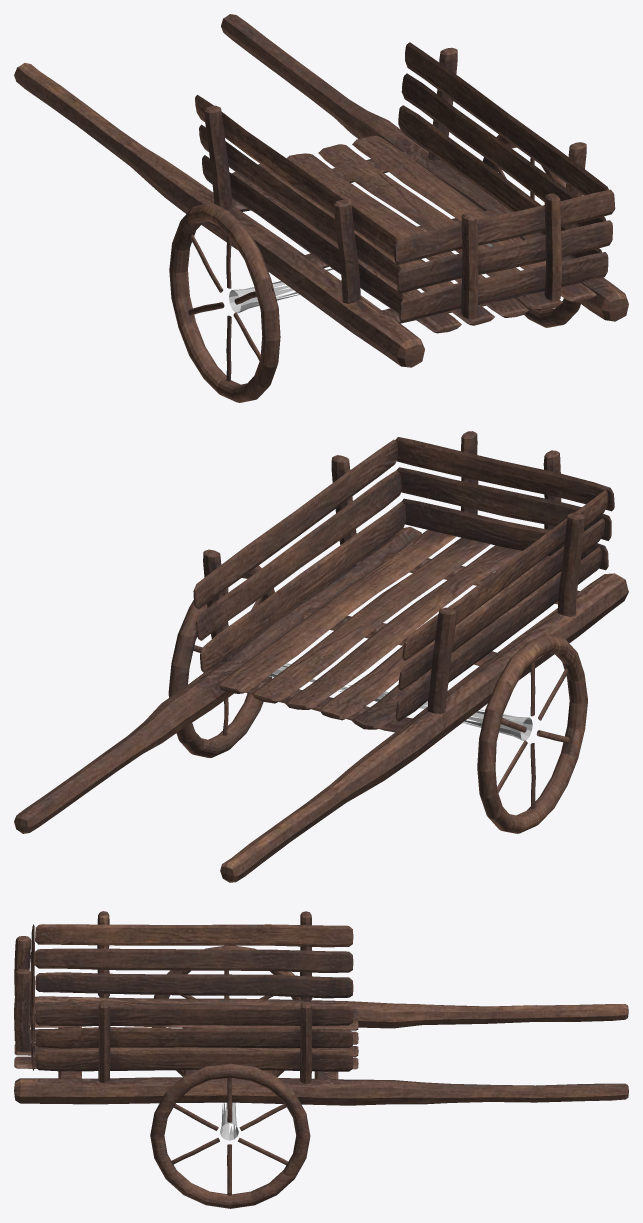
The model's file is carretto.fbx.
The picture shows the model from 3 angles, top to bottom: view 1: azimuth 30°, elevation 25°; view 2: azimuth 150°, elevation 25°; view 3: azimuth 270°, elevation 25°; orthographic projection. The views are drawn at different scales.
Parts seen in each view (by area): view 1: Carro_Low1:pCube28, Carro_Low1:polySurface7pCylinder9; view 2: Carro_Low1:pCube28, Carro_Low1:polySurface7pCylinder9; view 3: Carro_Low1:pCube28, Carro_Low1:polySurface7pCylinder9.
Part boxes in pixels (bbox=[...]): Carro_Low1:pCube28: bbox=[14, 14, 628, 402]; Carro_Low1:polySurface7pCylinder9: bbox=[229, 243, 493, 313]; Carro_Low1:pCube28: bbox=[14, 431, 628, 882]; Carro_Low1:polySurface7pCylinder9: bbox=[269, 663, 532, 740]; Carro_Low1:pCube28: bbox=[14, 911, 628, 1208]; Carro_Low1:polySurface7pCylinder9: bbox=[220, 1102, 238, 1140].
Size of the model in its own units: 10.24 by 7.51 by 21.33.
